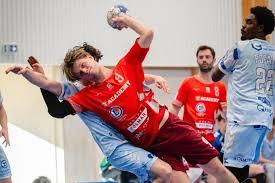ballon_handball: (106, 5, 129, 30)
